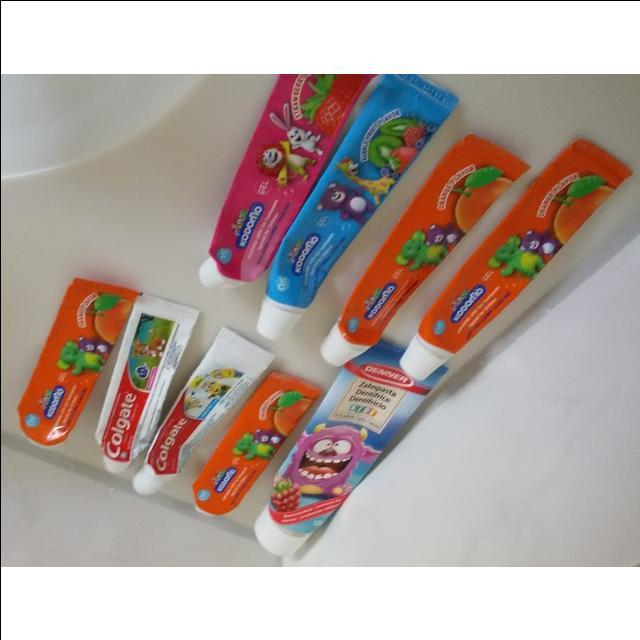Squeeze Tube: (238, 77, 471, 355), (393, 125, 634, 389), (318, 116, 538, 376), (249, 337, 447, 561), (190, 75, 373, 293), (121, 323, 274, 499), (180, 360, 328, 536), (15, 279, 146, 456), (88, 294, 204, 478), (201, 326, 258, 350)
